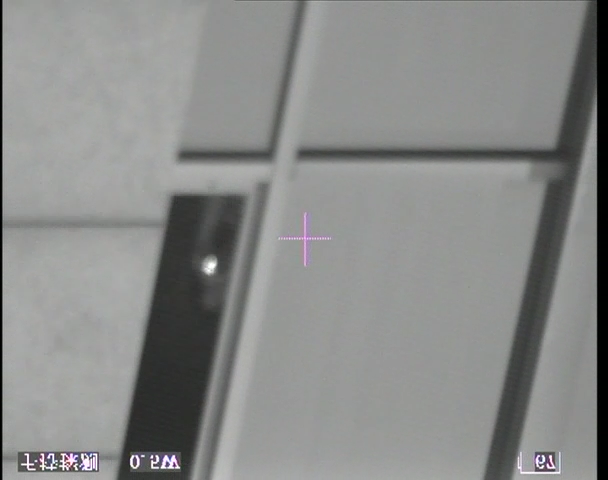my: (200, 253, 220, 276)
